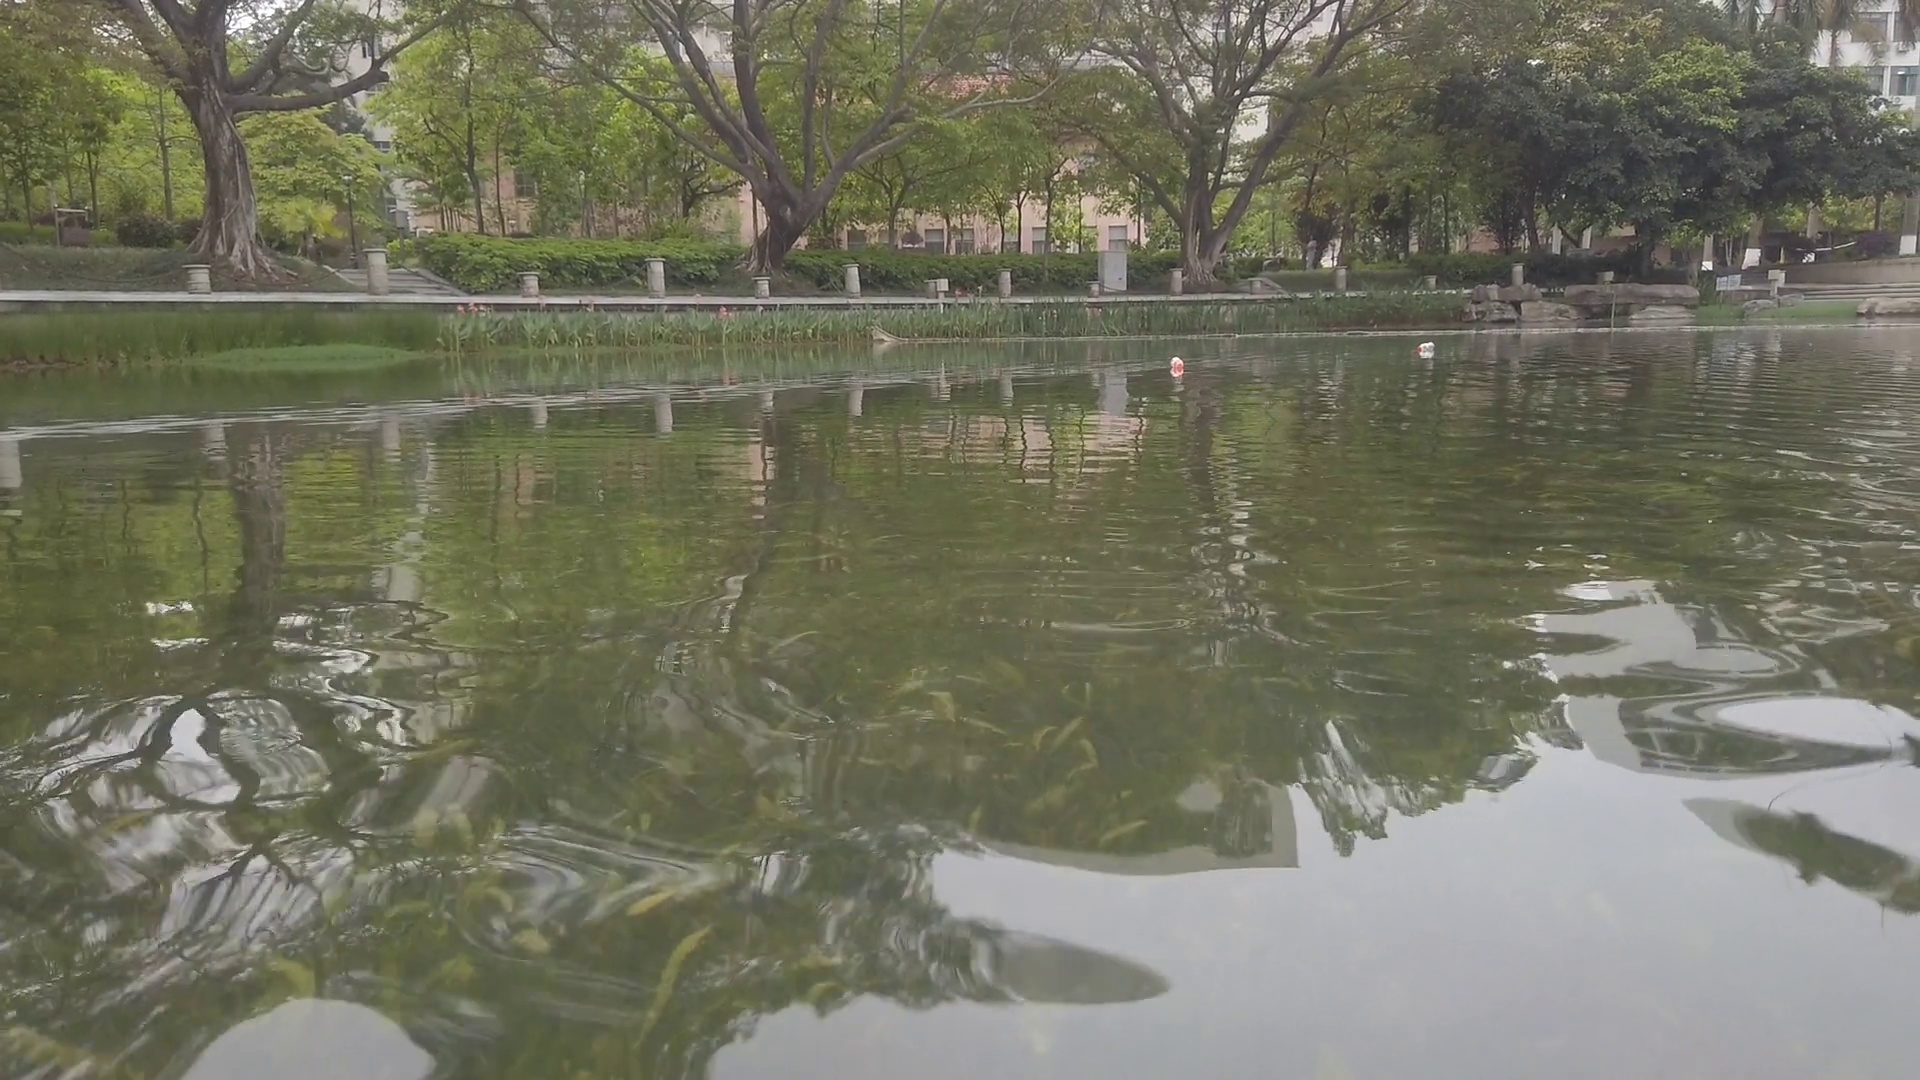bottle: (1168, 353, 1183, 372), (1415, 340, 1435, 353)
